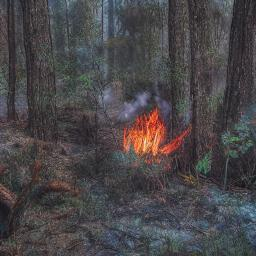Small fire: (125, 111, 188, 174)
